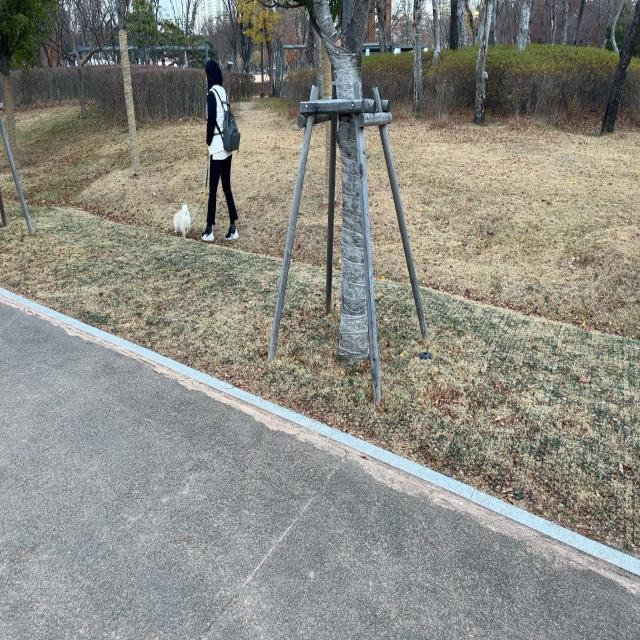Leashed_Dog: (173, 142, 217, 240)
